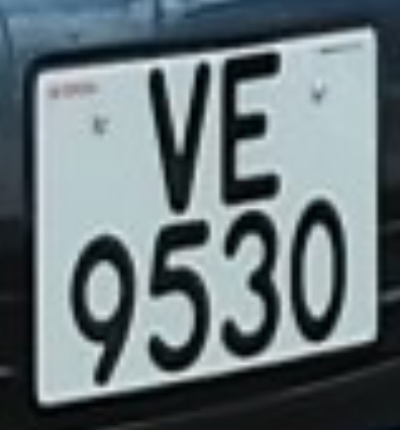0: (285, 186, 357, 352)
3: (220, 203, 291, 368)
5: (137, 213, 217, 379)
9: (63, 220, 143, 395)
E: (209, 42, 292, 215)
V: (135, 53, 224, 222)
